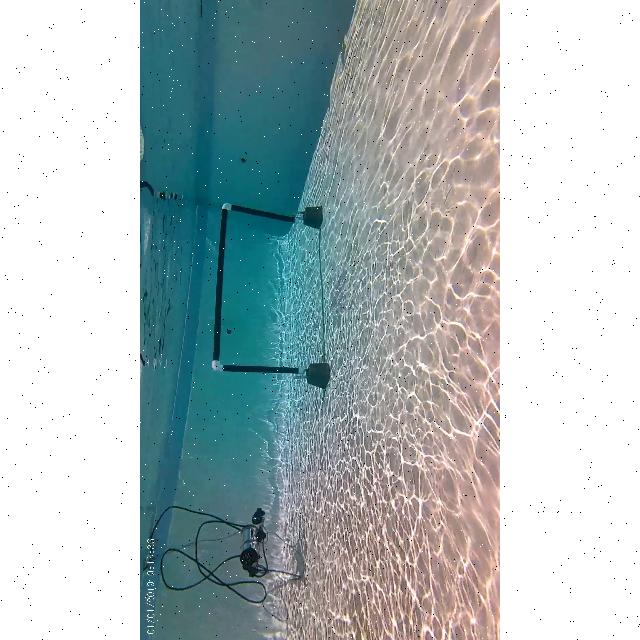prequal gate: (212, 203, 302, 377)
prequal gate leg l: (210, 358, 308, 378)
prequal gate leg r: (220, 204, 306, 228)
